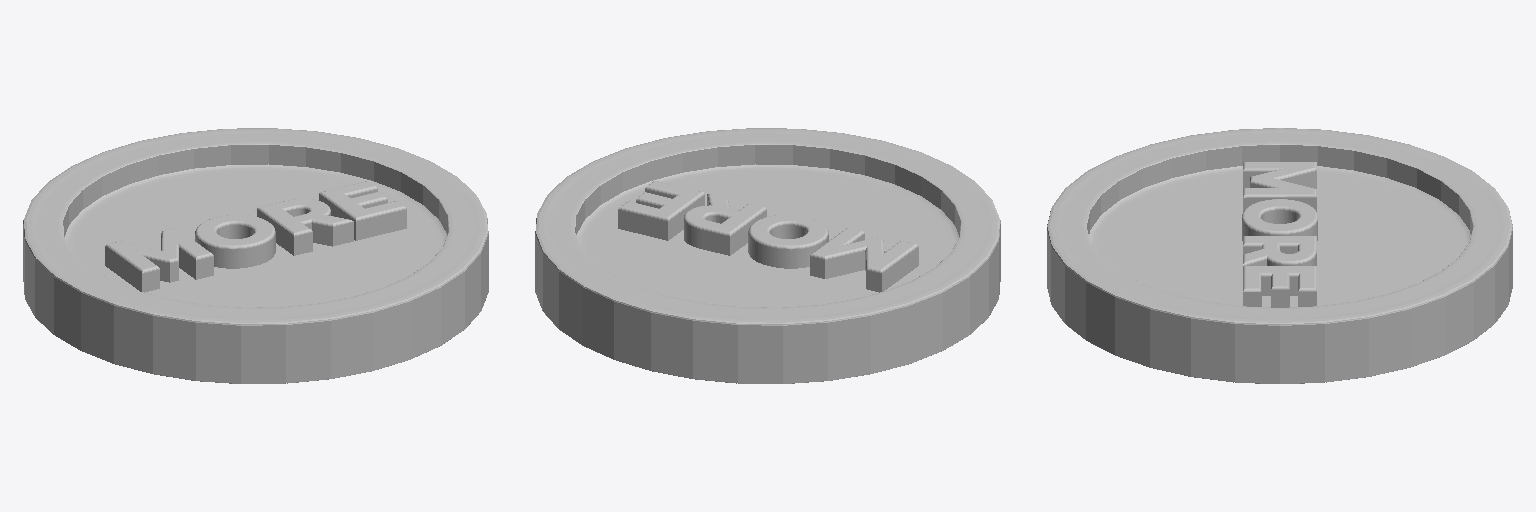
File: morecoin.obj
3 views of the same model, side by side, from view 1: azimuth 30°, elevation 25°; view 2: azimuth 150°, elevation 25°; view 3: azimuth 270°, elevation 25° (orthographic).
Visible parts, largest first — view 1: Cylinder; view 2: Cylinder; view 3: Cylinder.
Part boxes in pixels (bbox=[...]): Cylinder: bbox=[23, 128, 488, 383]; Cylinder: bbox=[535, 128, 1000, 383]; Cylinder: bbox=[1047, 128, 1512, 383].
Bounding box in the file's own units: 10.71 × 1.56 × 10.71.